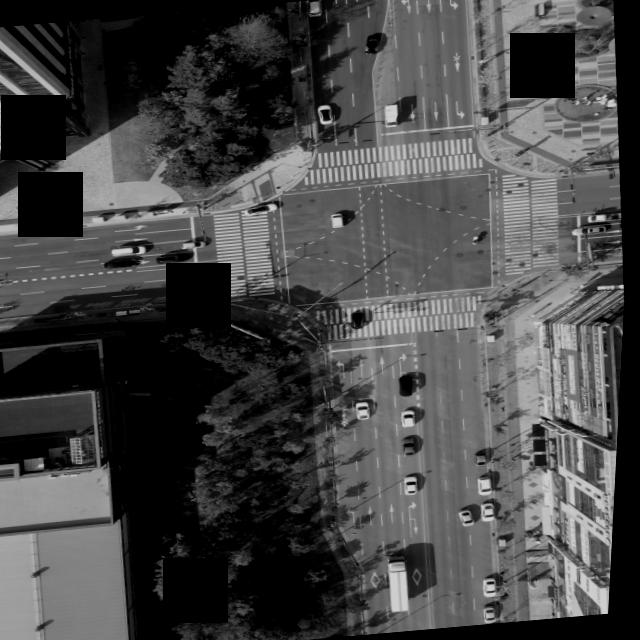car: (242, 202, 282, 216), (572, 224, 609, 236), (105, 258, 144, 269), (156, 253, 193, 264), (486, 576, 503, 598), (110, 246, 147, 256), (400, 375, 418, 395), (403, 436, 421, 456), (406, 474, 424, 494), (479, 474, 497, 494), (361, 34, 380, 52), (167, 281, 198, 292), (355, 400, 372, 420), (484, 501, 501, 521), (460, 508, 478, 526), (403, 408, 420, 427), (317, 105, 334, 124), (486, 604, 503, 622), (183, 240, 209, 250), (330, 212, 346, 228), (350, 311, 364, 328), (307, 0, 322, 15), (477, 450, 491, 466)
medium_truck: (385, 555, 417, 614)
small_truck: (381, 103, 400, 126), (588, 212, 623, 224)
